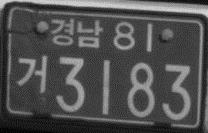1: (97, 55, 115, 117), (142, 20, 157, 54)
3: (161, 62, 193, 122), (54, 55, 87, 112)
8: (126, 61, 156, 118), (112, 21, 136, 51)
거: (14, 54, 50, 94)
경남_O: (50, 17, 104, 48)
